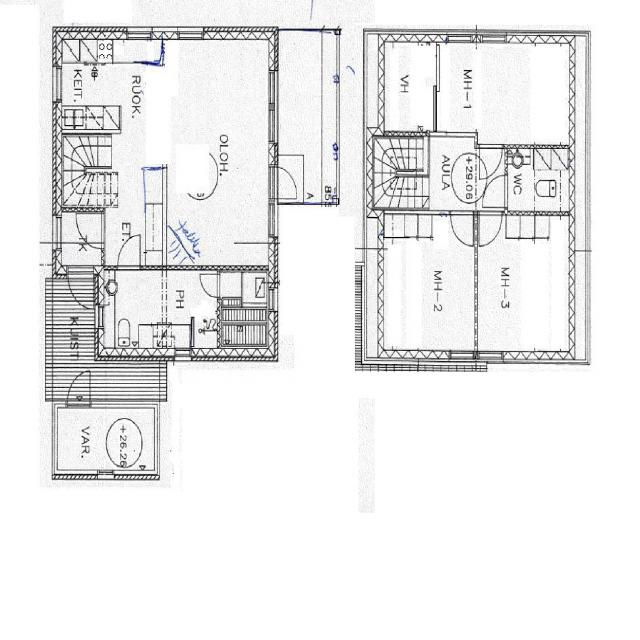door: (67, 266, 93, 315), (268, 163, 301, 197), (66, 365, 91, 408), (76, 213, 105, 248), (482, 175, 508, 206), (116, 235, 138, 271), (450, 208, 472, 244), (480, 208, 501, 243), (481, 144, 502, 177), (200, 273, 220, 297)
